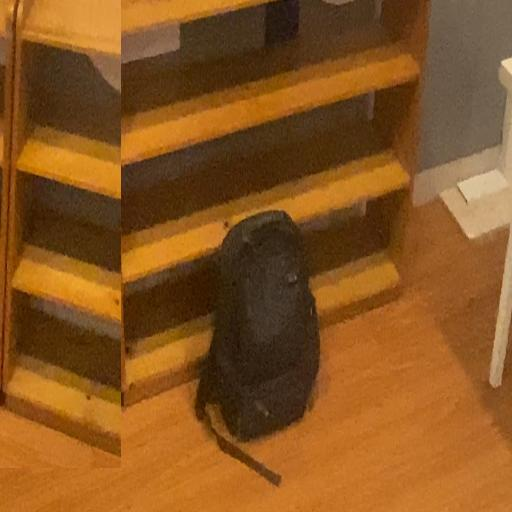lemari: (0, 0, 121, 468)
tas ransel: (194, 206, 324, 486)
